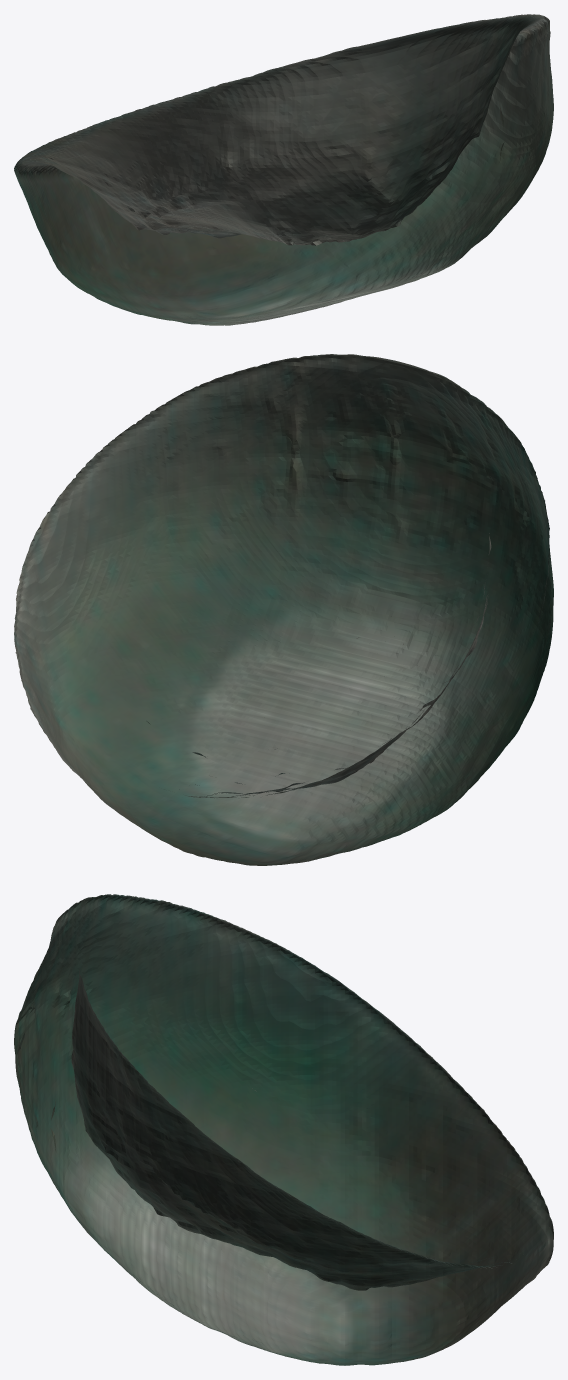
3 renders of one model, top to bottom at view 1: azimuth 30°, elevation 25°; view 2: azimuth 150°, elevation 25°; view 3: azimuth 270°, elevation 25°, orthographic. The views are drawn at different scales.
Visible parts, largest first — view 1: geometry_0; view 2: geometry_0; view 3: geometry_0.
Part boxes in pixels (x1,y1,x2,y2): geometry_0: [14, 14, 553, 325]; geometry_0: [14, 354, 553, 865]; geometry_0: [14, 894, 553, 1365].
Bounding box in the file's own units: 1.6 × 1.16 × 1.44.
